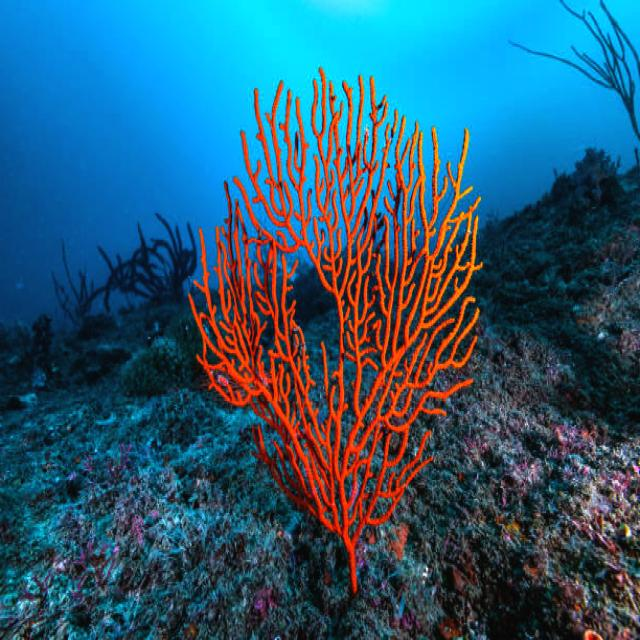Coral: (186, 66, 484, 592)
